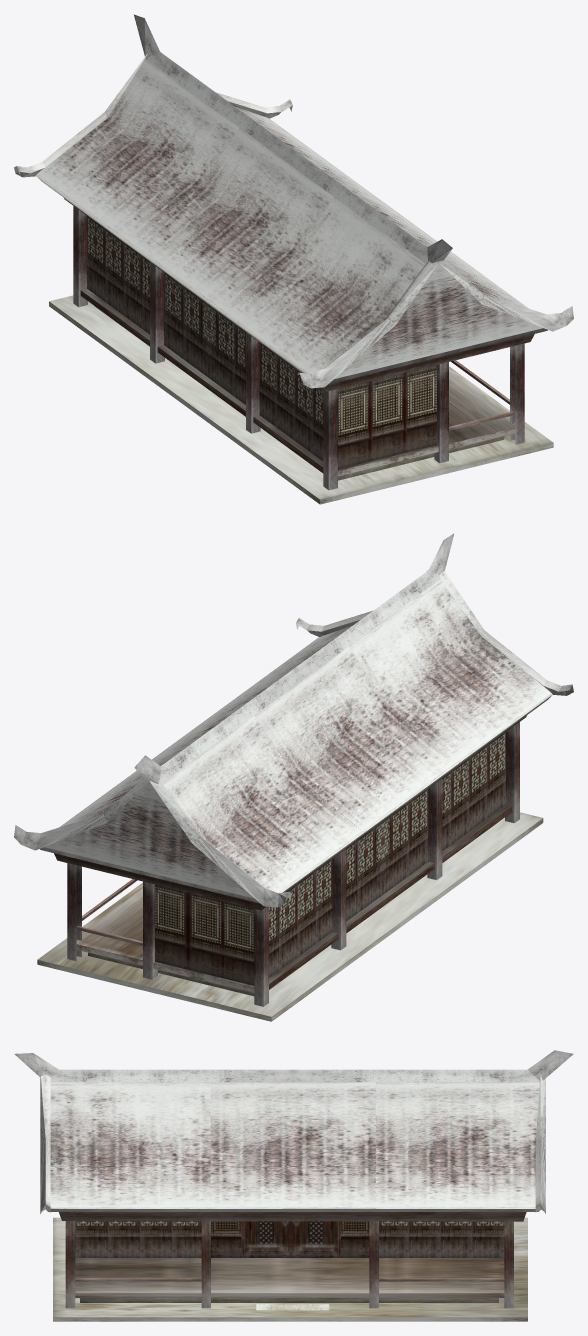
File: snow-033-guesthouse-02_lod_01.fbx
3 views of the same model, one above another, from view 1: azimuth 30°, elevation 25°; view 2: azimuth 150°, elevation 25°; view 3: azimuth 270°, elevation 25° (orthographic). The views are drawn at different scales.
Visible parts, largest first — view 1: snow-033-guesthouse-01, snow-033-guesthouse-02; view 2: snow-033-guesthouse-01, snow-033-guesthouse-02; view 3: snow-033-guesthouse-01, snow-033-guesthouse-02.
Boxes of the visible parts, box(x1,y1,x2,y2) form: snow-033-guesthouse-01: box(14, 14, 573, 480); snow-033-guesthouse-02: box(49, 198, 553, 504); snow-033-guesthouse-01: box(14, 533, 573, 996); snow-033-guesthouse-02: box(37, 715, 543, 1021); snow-033-guesthouse-01: box(14, 1050, 573, 1310); snow-033-guesthouse-02: box(53, 1212, 527, 1321).
Size of the model in its own units: 13.56 by 11.86 by 27.45.
